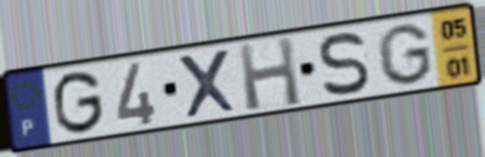4: (114, 59, 159, 127)
G: (374, 21, 435, 88), (51, 68, 107, 137)
H: (234, 34, 304, 114)
S: (316, 29, 373, 99)
X: (174, 46, 241, 122)
